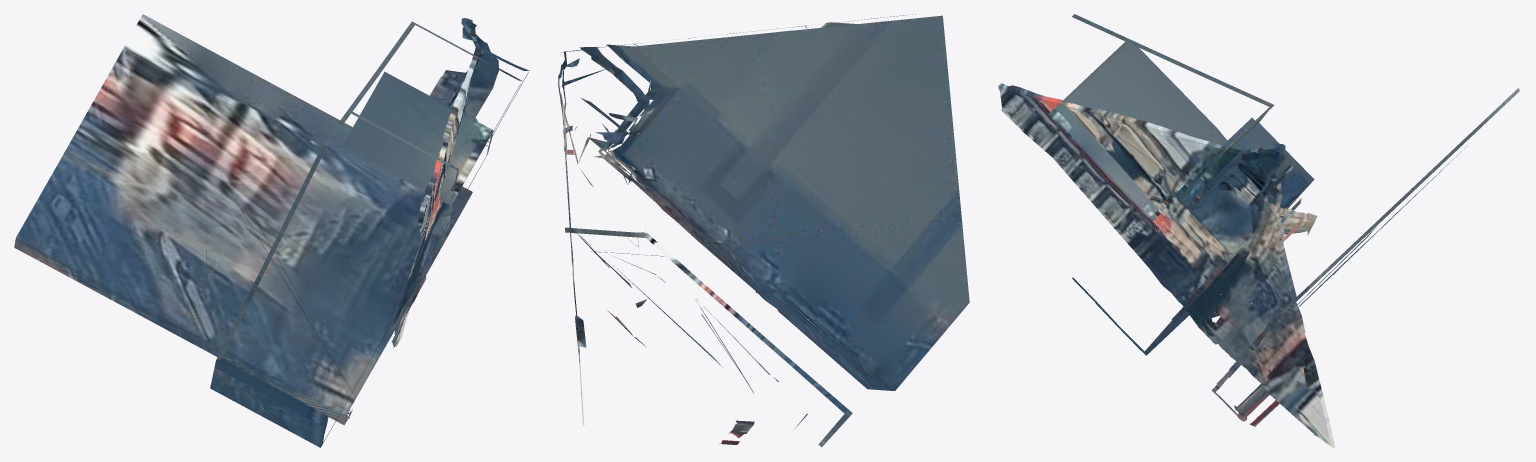
File: masp_tile_10.glb
3 renders of one model, left to right at view 1: azimuth 30°, elevation 25°; view 2: azimuth 150°, elevation 25°; view 3: azimuth 270°, elevation 25°, orthographic. The views are drawn at different scales.
Bounding box in the file's own units: 43.51 × 39.78 × 52.99.
Materials: 1 (1 with a texture image).
